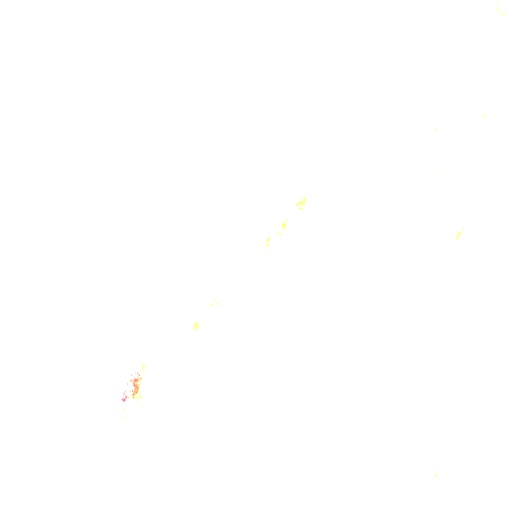Angular Leafspot: (0, 64, 511, 511)
